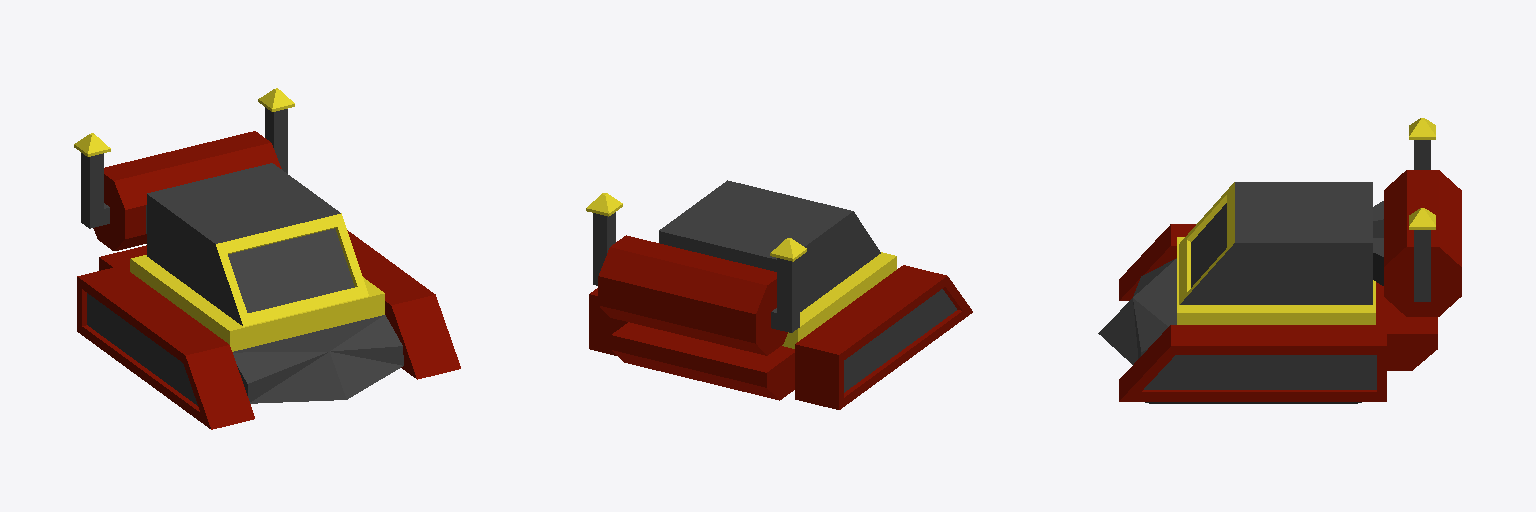
The picture shows the model from 3 angles: view 1: azimuth 30°, elevation 25°; view 2: azimuth 150°, elevation 25°; view 3: azimuth 270°, elevation 25°; orthographic projection.
Visible parts, largest first — view 1: Cylinder; view 2: Cylinder; view 3: Cylinder.
Part boxes in pixels (bbox=[...]): Cylinder: bbox=[74, 88, 460, 429]; Cylinder: bbox=[586, 180, 972, 409]; Cylinder: bbox=[1098, 118, 1461, 403].
Bounding box in the file's own units: 0.7866 × 0.5525 × 0.9891.
2 materials, 1 textured.